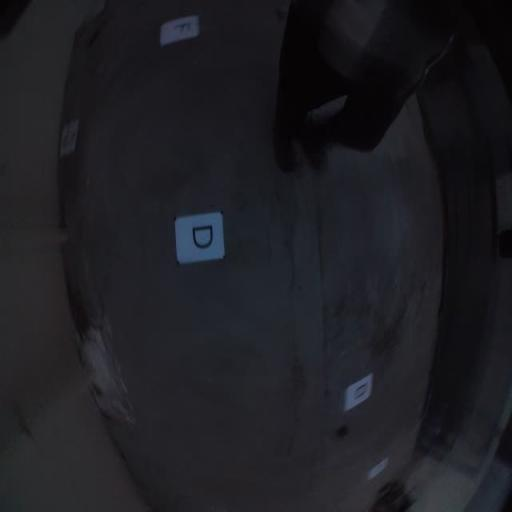D: (175, 212, 225, 265), (339, 372, 374, 411)
E: (160, 14, 200, 46)
